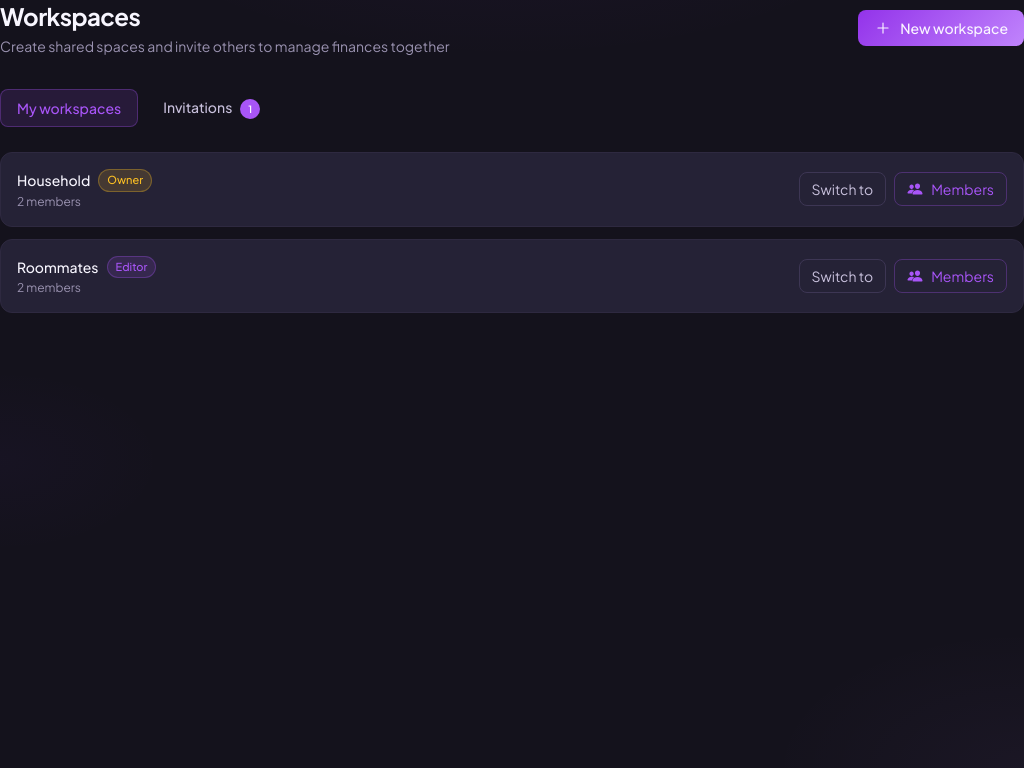
Workspaces - members modal role gating › shows the invite form for the workspace owner
Expected: the text "Household" is shown, [17, 170, 90, 190]
What coordinates should you click on to do the following:
click the button "Members" in the row of "Owner"
I would click on:
 (951, 189)
Its box is [894, 172, 1007, 206].
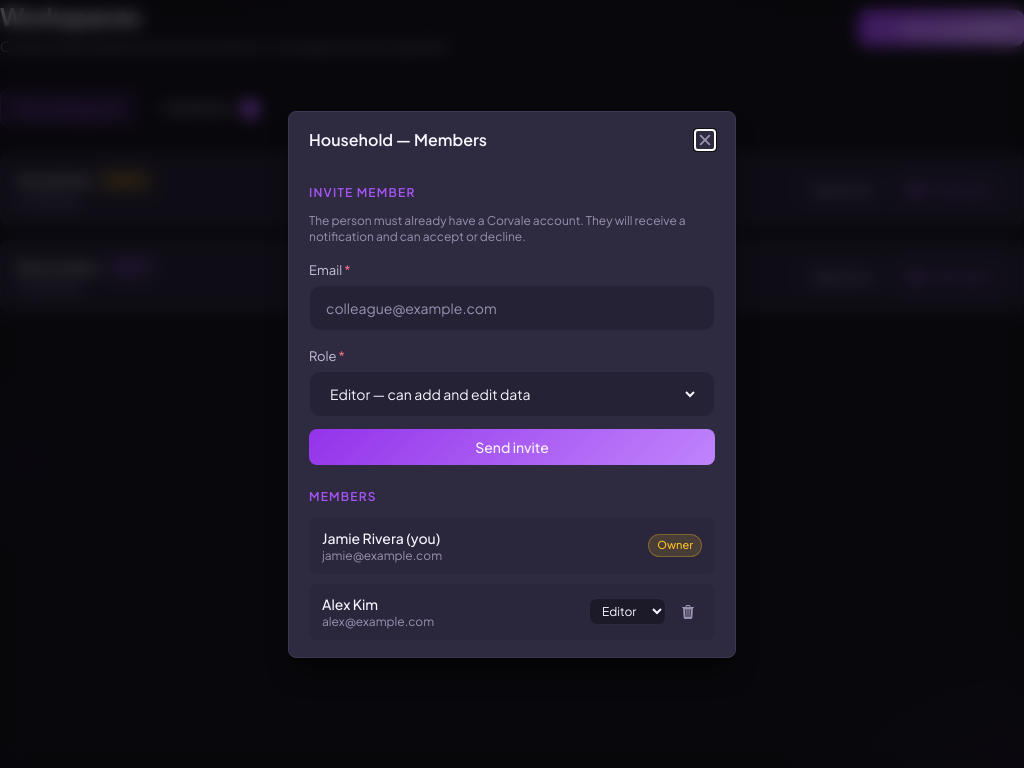
Result: the field with placeholder "colleague@example.com" is shown at [326, 298, 698, 318]
